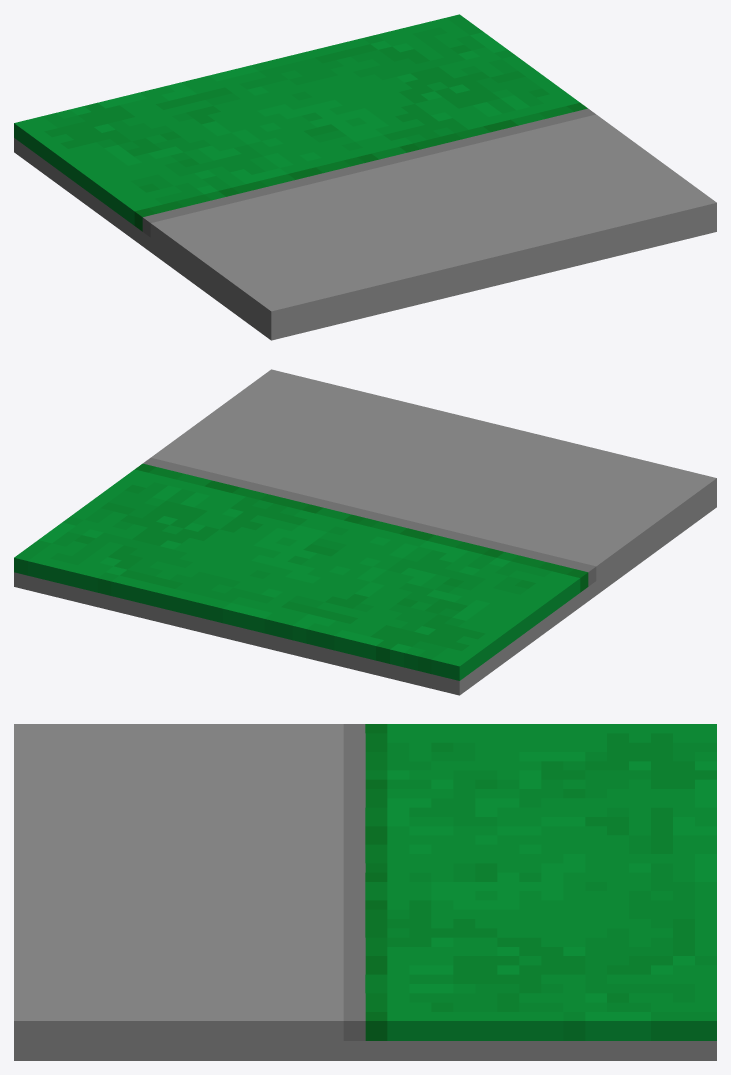
File: forest-city-side-4.gltf
The picture shows the model from 3 angles, top to bottom: view 1: azimuth 30°, elevation 25°; view 2: azimuth 150°, elevation 25°; view 3: azimuth 270°, elevation 25°; orthographic projection. The views are drawn at different scales.
Parts seen in each view (by area): view 1: forest-city-side-4; view 2: forest-city-side-4; view 3: forest-city-side-4.
Part boxes in pixels (x1,y1,x2,y2): forest-city-side-4: (14, 14, 716, 340); forest-city-side-4: (14, 369, 716, 695); forest-city-side-4: (14, 724, 716, 1060).
Bounding box in the file's own units: 3.2 × 0.2 × 3.2.
1 material, 1 textured.
